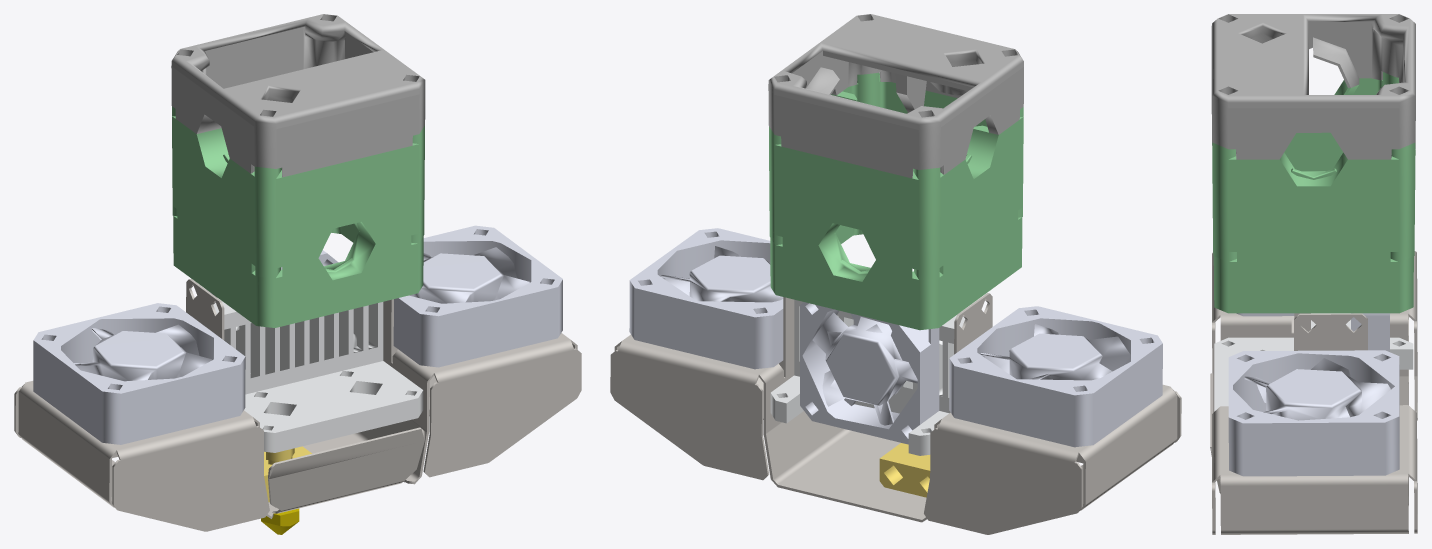
Rendered from Printhead.fbx.
The picture shows the model from 3 angles, left to right: view 1: azimuth 30°, elevation 25°; view 2: azimuth 150°, elevation 25°; view 3: azimuth 270°, elevation 25°; orthographic projection. The views are drawn at different scales.
Parts seen in each view (by area): view 1: 2284-B, 1748-D, 1321-B2P-C, 1313-A fan base, 1322-B2P-D, Mesh_4.004, 1306-C, 1308-C, 1313-A fan rotor, Mesh_5.008; view 2: 2284-B, 1748-D, 1321-B2P-C, 1313-A fan base, 1322-B2P-D, Mesh_4.004, 1330-C fan base, 1330-C fan rotor, 1313-A fan rotor, Mesh_5.008, 1306-C, 1308-C (+1 smaller); view 3: 1748-D, 1321-B2P-C, 2284-B, Mesh_4.004, 1322-B2P-D, Mesh_5.008, 1306-C, 1330-C fan base.
Boxes of the visible parts, <box> form: 2284-B: <box>14,278,581,531</box>; 1748-D: <box>171,14,425,177</box>; 1321-B2P-C: <box>172,106,424,278</box>; 1313-A fan base: <box>33,303,245,444</box>; 1322-B2P-D: <box>173,209,423,327</box>; Mesh_4.004: <box>393,225,562,367</box>; 1306-C: <box>244,361,423,452</box>; 1308-C: <box>213,298,383,394</box>; 1313-A fan rotor: <box>74,324,211,381</box>; Mesh_5.008: <box>409,247,529,303</box>; 2284-B: <box>610,293,1181,534</box>; 1748-D: <box>768,14,1023,178</box>; 1321-B2P-C: <box>769,72,1023,280</box>; 1313-A fan base: <box>949,306,1162,447</box>; 1322-B2P-D: <box>770,211,1022,330</box>; Mesh_4.004: <box>629,228,783,369</box>; 1330-C fan base: <box>800,302,939,444</box>; 1330-C fan rotor: <box>812,312,917,425</box>; 1313-A fan rotor: <box>981,324,1130,380</box>; Mesh_5.008: <box>661,246,783,302</box>; 1306-C: <box>770,375,948,455</box>; 1308-C: <box>794,299,965,413</box>; 1748-D: <box>1211,14,1415,159</box>; 1321-B2P-C: <box>1212,72,1415,262</box>; 2284-B: <box>1210,251,1417,534</box>; Mesh_4.004: <box>1228,350,1399,476</box>; 1322-B2P-D: <box>1213,171,1413,313</box>; Mesh_5.008: <box>1244,358,1390,420</box>; 1306-C: <box>1214,337,1413,411</box>; 1330-C fan base: <box>1351,313,1389,351</box>.
Size of the model in its own units: 9.8 by 8.8 by 3.64.
